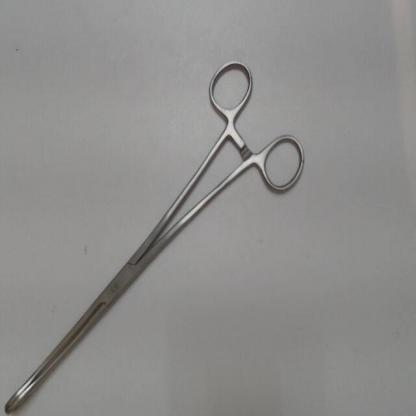Sponge Forceps: (0, 51, 311, 414)
